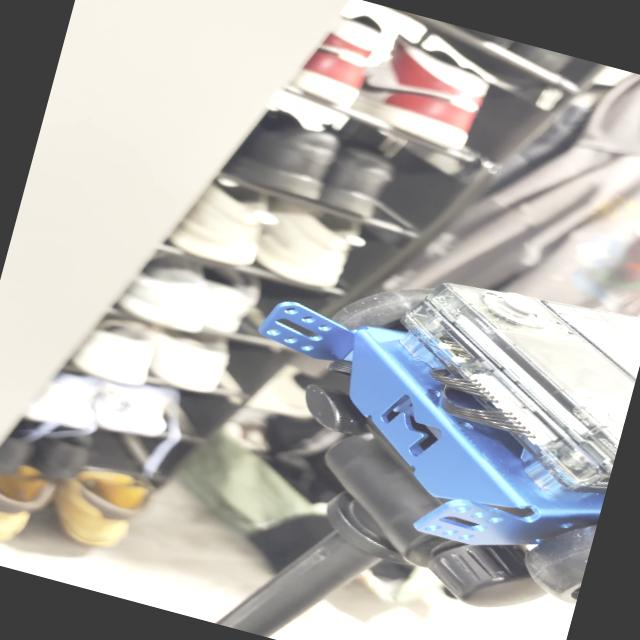mbot-detection: (203, 218, 640, 608)
